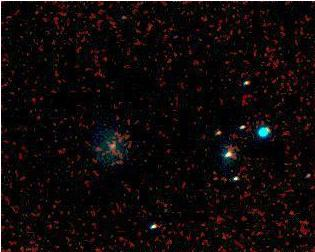star: (82, 134, 112, 164)
